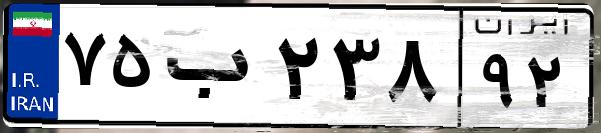2: (270, 28, 330, 110), (525, 38, 570, 115)
3: (330, 28, 385, 110)
5: (110, 28, 158, 98)
7: (57, 26, 110, 100)
8: (385, 28, 445, 110)
9: (475, 38, 525, 113)
ب: (158, 20, 270, 120)
